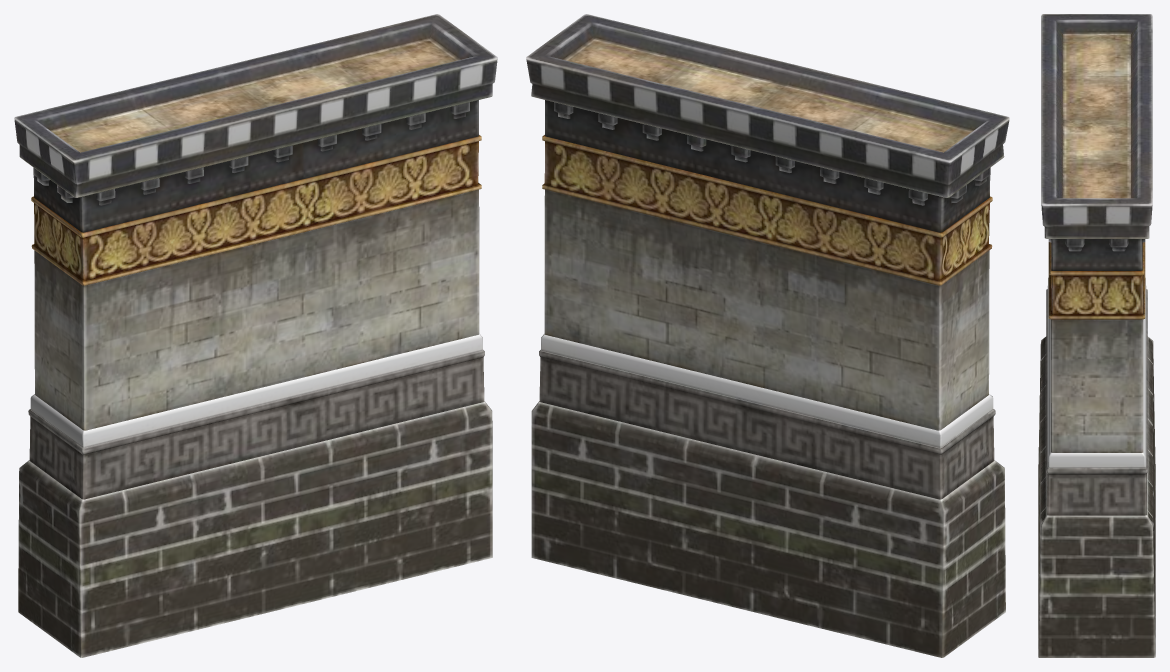
Rendered from 69-stonewall-wall_stone_g_short.glb.
3 views of the same model, side by side, from view 1: azimuth 30°, elevation 25°; view 2: azimuth 150°, elevation 25°; view 3: azimuth 270°, elevation 25° (orthographic). The views are drawn at different scales.
Bounding box in the file's own units: 4.27 × 4.77 × 1.11.
Materials: 1 (1 with a texture image).
